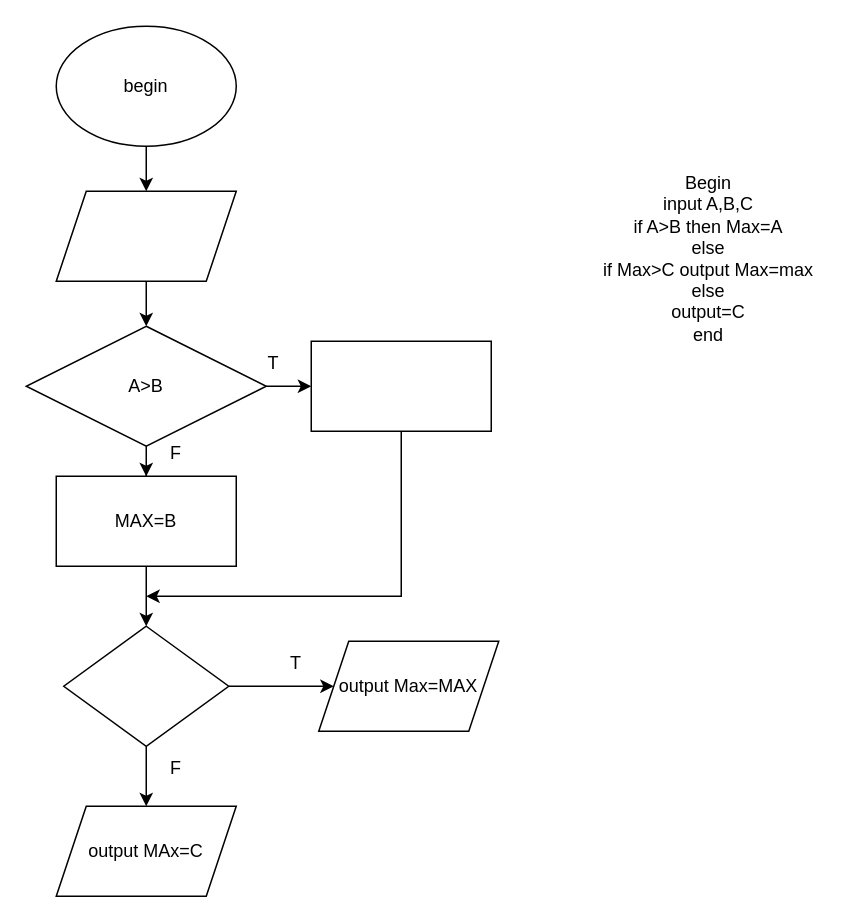
Some shapes in this 848 by 923 pixel diagram are drawn without their labels. Each missing label, with the box of its shape:
input A,B,C: (55, 190, 236, 281)
max=A: (310, 340, 491, 431)
Max>C: (62, 625, 229, 746)
